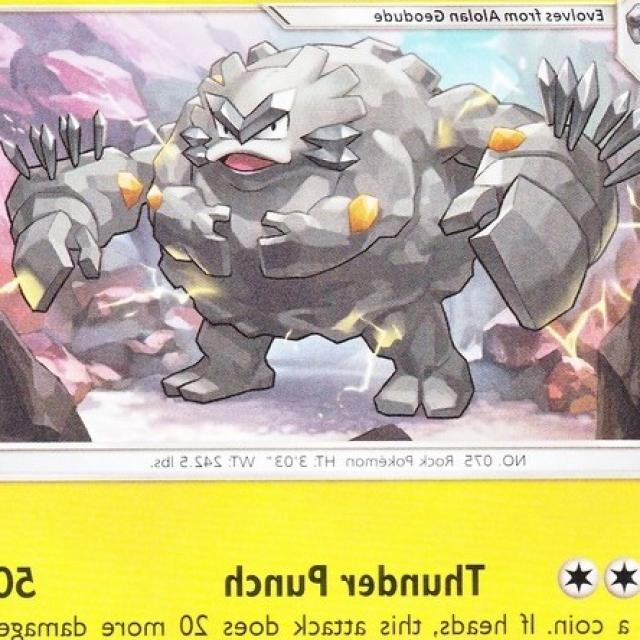Graveler: (69, 36, 583, 408)
